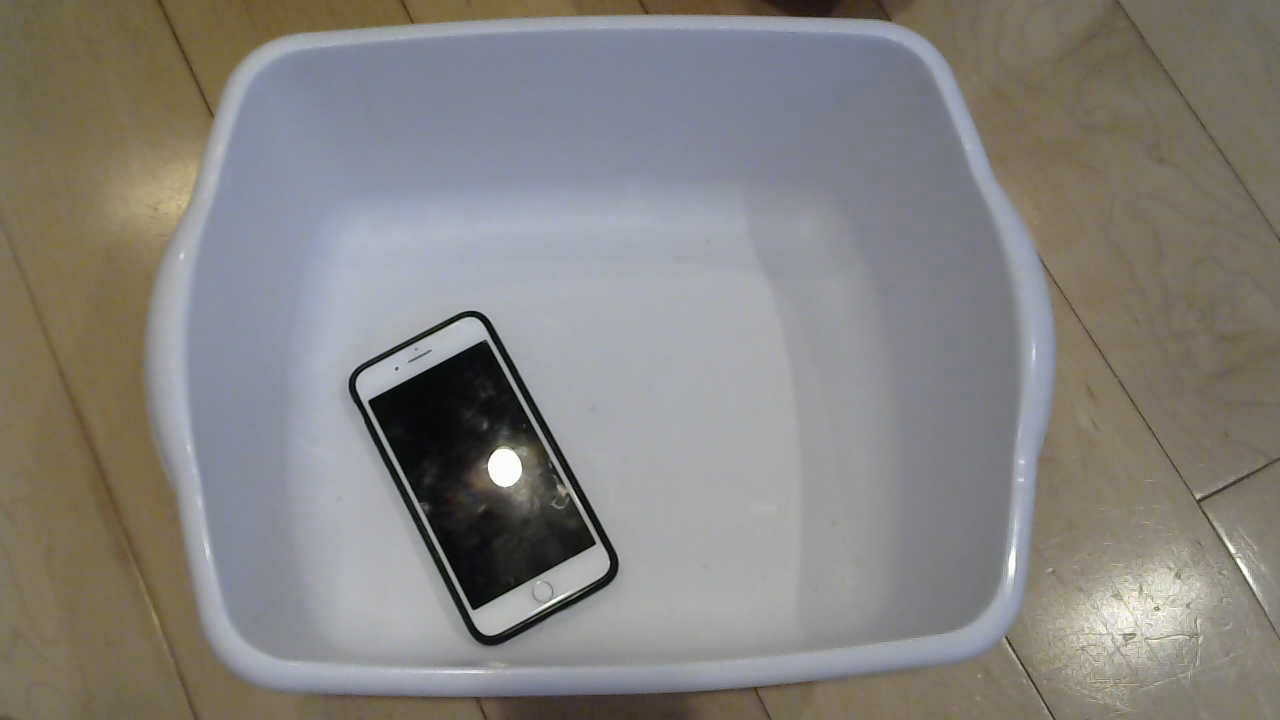phone: (332, 309, 627, 649)
